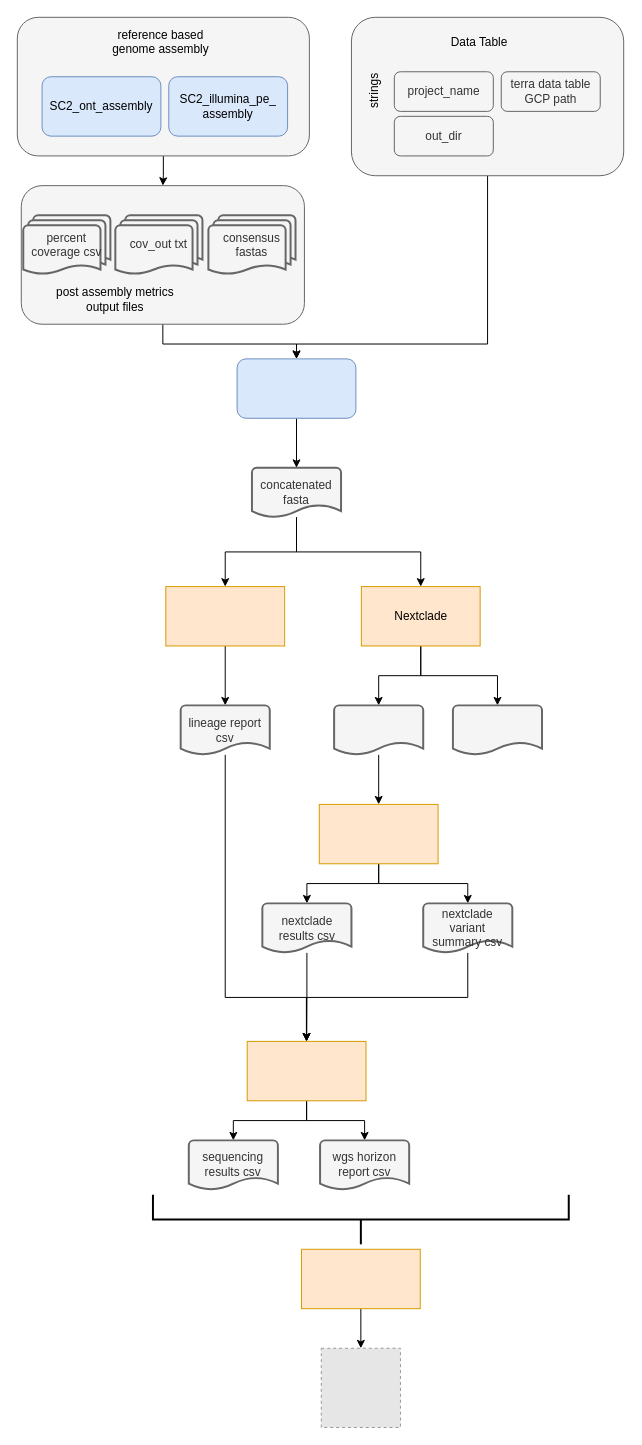
Image size: 642x1445. Some labels were removed from this diagram. Grey dashed boxes stand in for pictures. Each missing label, with the box of its shape:
concat results py: (246, 1040, 366, 1101)
nextclade csv: (451, 704, 543, 755)
nextclade json: (333, 704, 424, 755)
nextclade json parser.py: (318, 803, 438, 864)
pangolin: (165, 586, 285, 646)
SC2_wastewater_ variant_ calling workflow: (236, 358, 356, 418)
transfer to GCP bucket: (300, 1248, 420, 1309)
